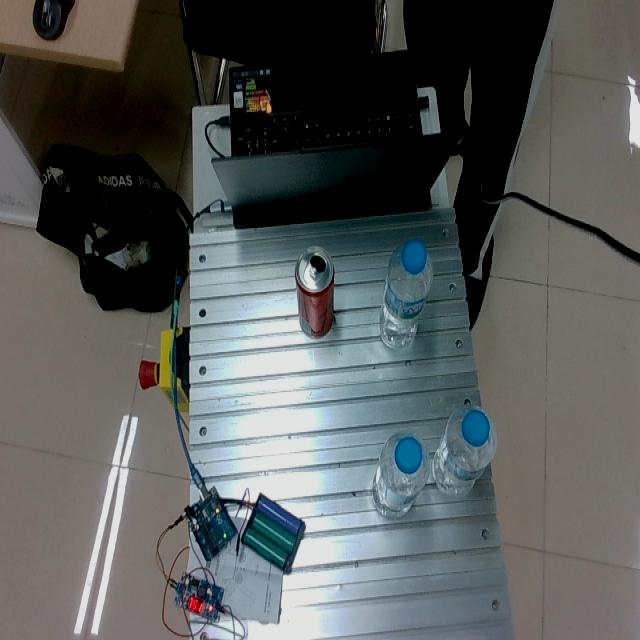coca: (294, 244, 335, 339)
lavie: (378, 237, 434, 351), (430, 404, 497, 495), (371, 430, 428, 518)
